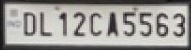character: (138, 10, 153, 37), (154, 11, 169, 37), (22, 11, 37, 36), (121, 11, 135, 37), (173, 11, 186, 38), (89, 11, 103, 36), (39, 11, 52, 37), (72, 11, 85, 36), (58, 10, 68, 36), (107, 11, 117, 36)
